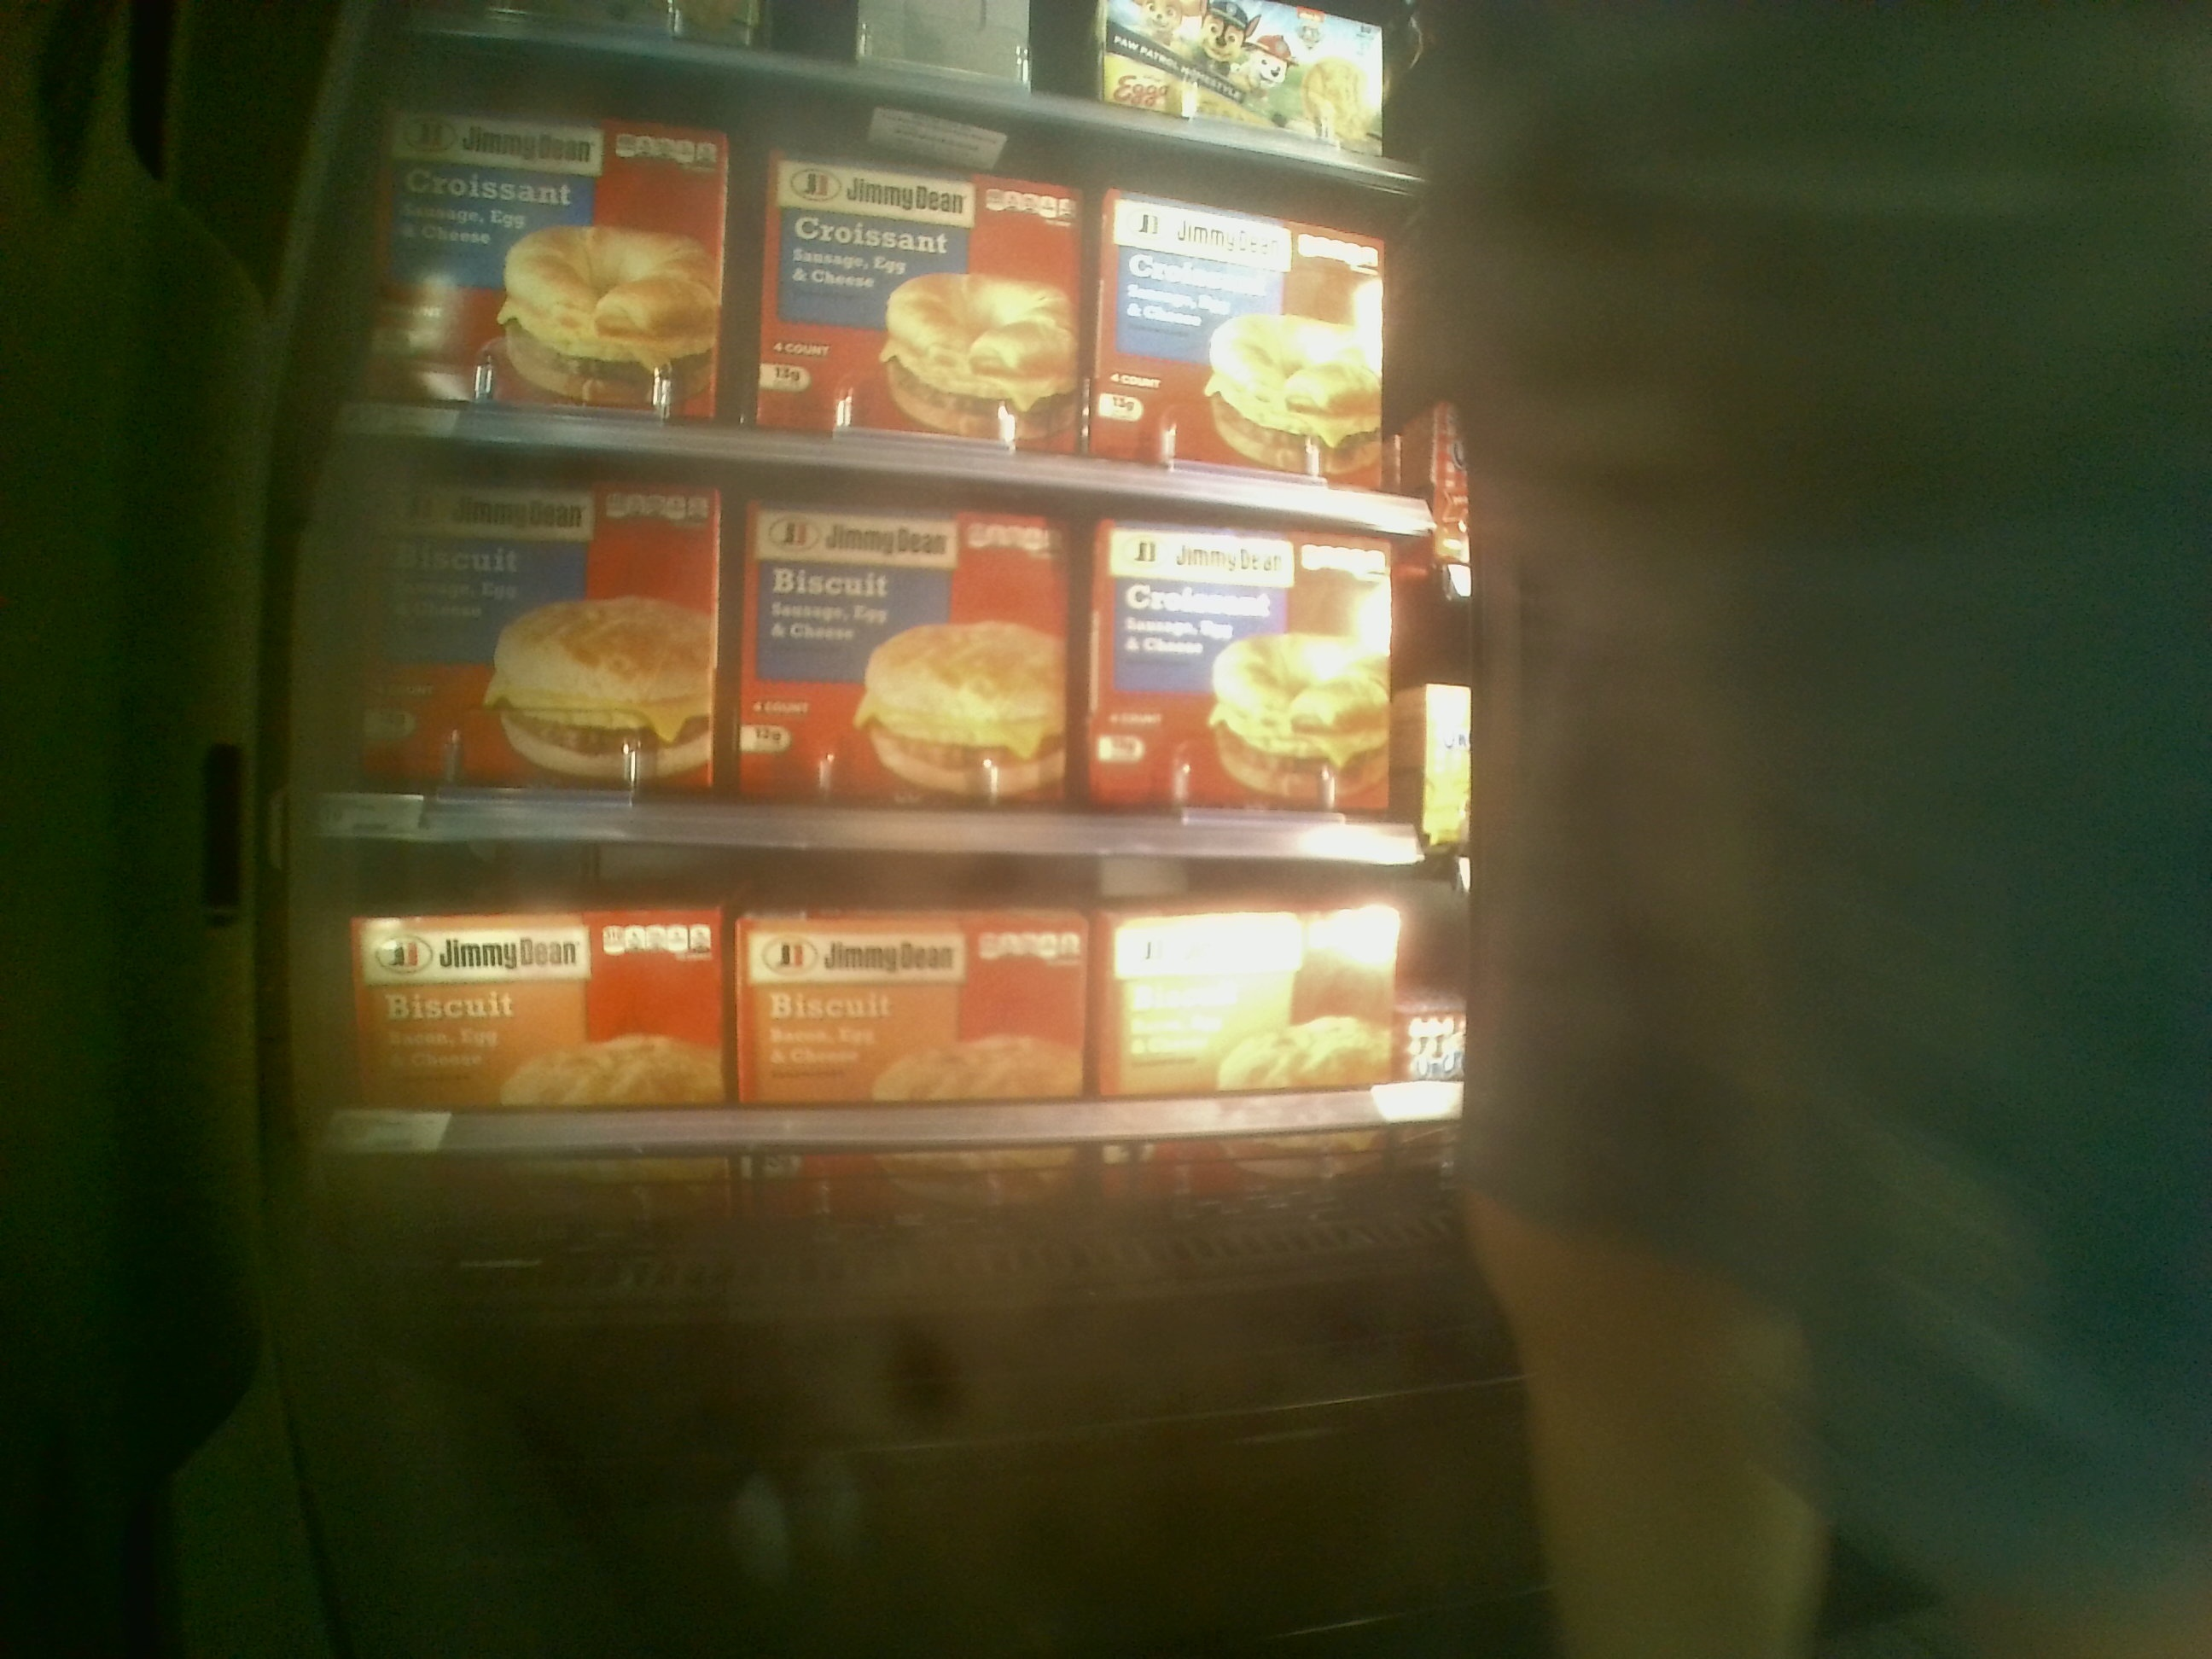shelf: (303, 430, 1456, 852)
